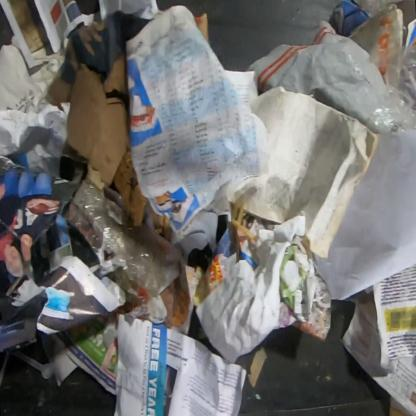cardboard: (46, 9, 156, 186), (113, 142, 148, 225), (152, 210, 173, 242), (194, 13, 210, 48)
rigid_plastic: (0, 350, 53, 388)
soft_plastic: (73, 175, 172, 296), (366, 45, 416, 136)
